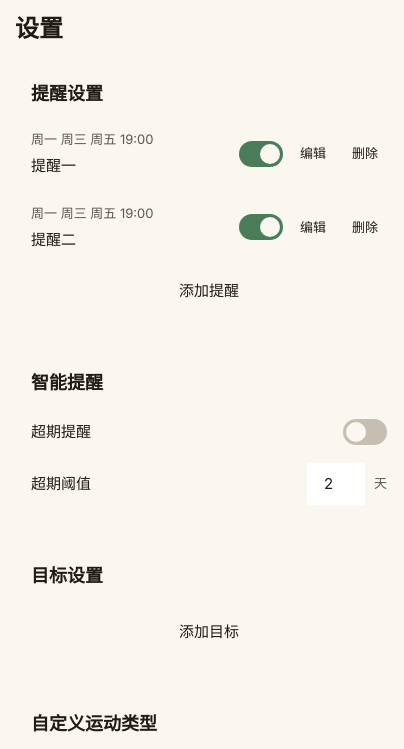
Test case: Settings 设置页 › 提醒设置区：点击删除按钮删除提醒
Click the button "删除" in the row of "提醒一" at (365, 154), box x1=343 y1=132 x2=387 y2=176
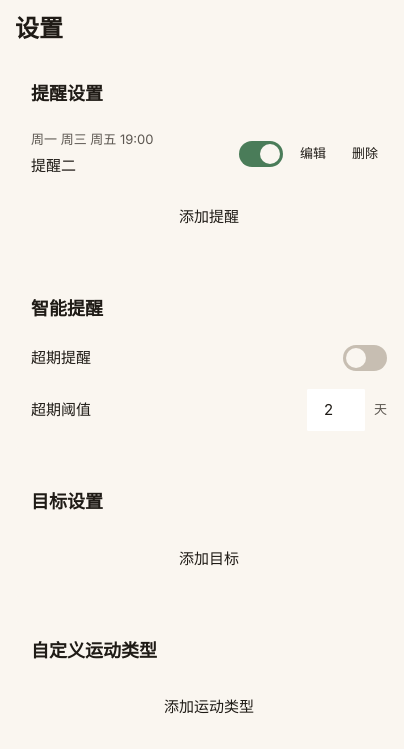
Expected: the text "提醒二" is shown, x1=31 y1=156 x2=76 y2=175
Result: the text "提醒一" is gone
